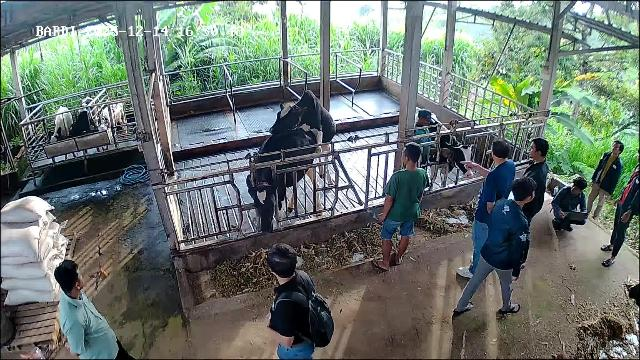mounting: (269, 88, 339, 183)
